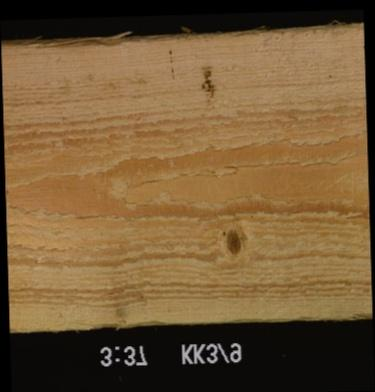sound_knot: (221, 228, 243, 255)
wave: (0, 25, 363, 45), (24, 316, 371, 328)
